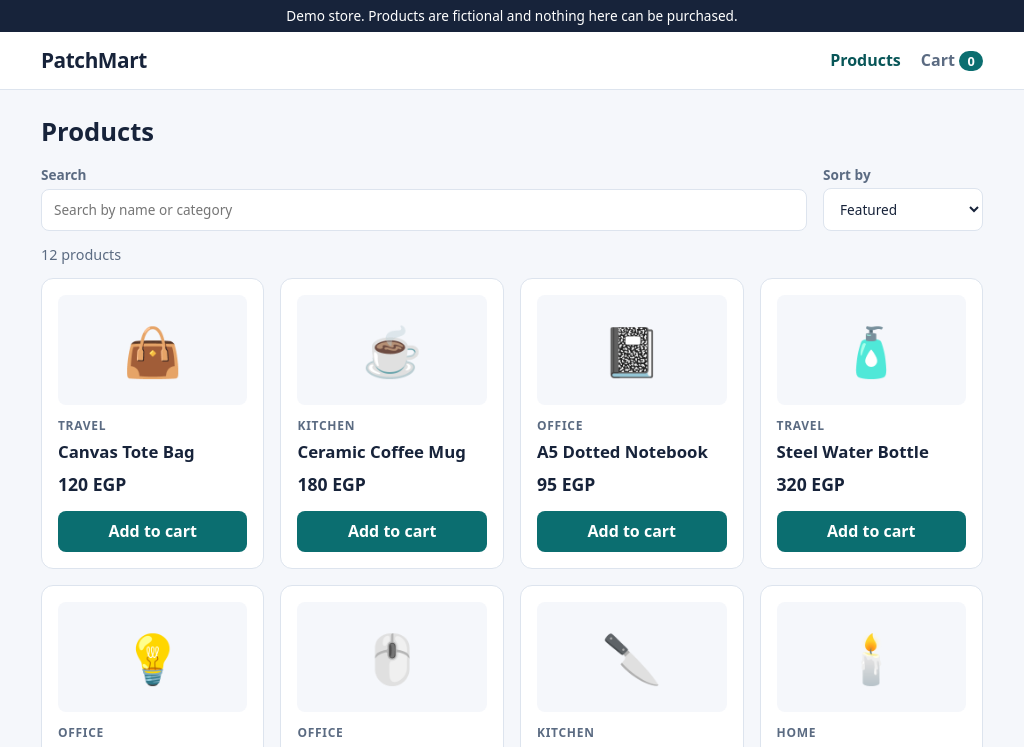
Test: products page › filters the list while typing in the search box
Type "mug" into the search field labelled "Search". click: [424, 210]
box: [41,189,807,231]
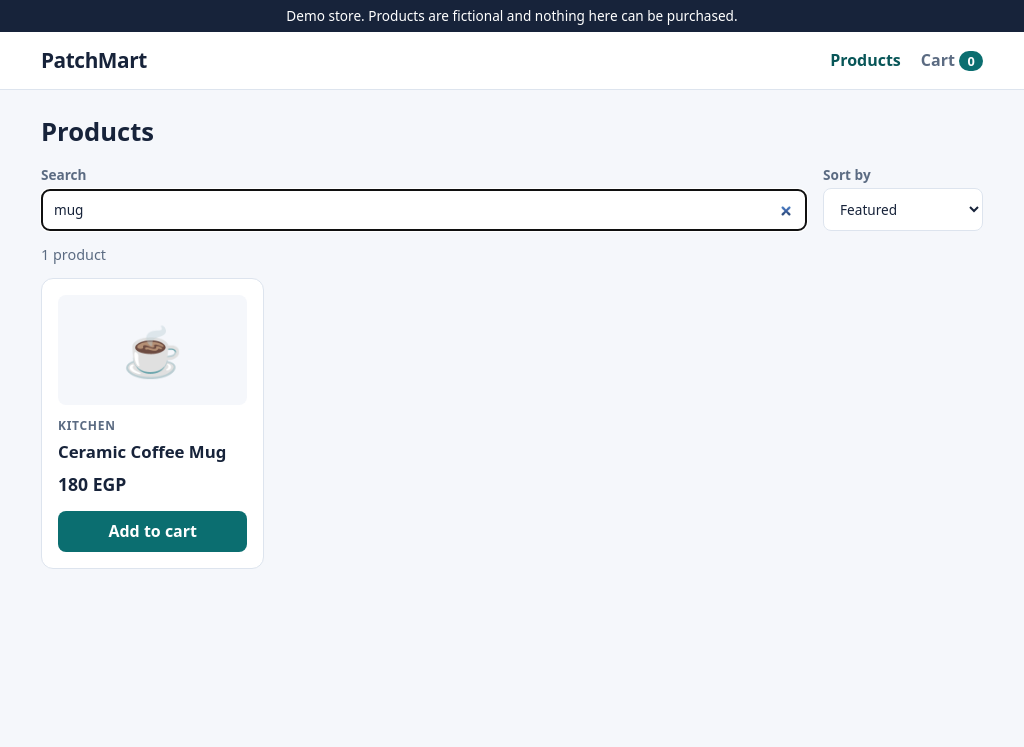
Expected: the heading "Ceramic Coffee Mug" is shown, [58,440,248,463]
Expected: the number of list items with test id "product-card" is 1, [41,278,264,569]
